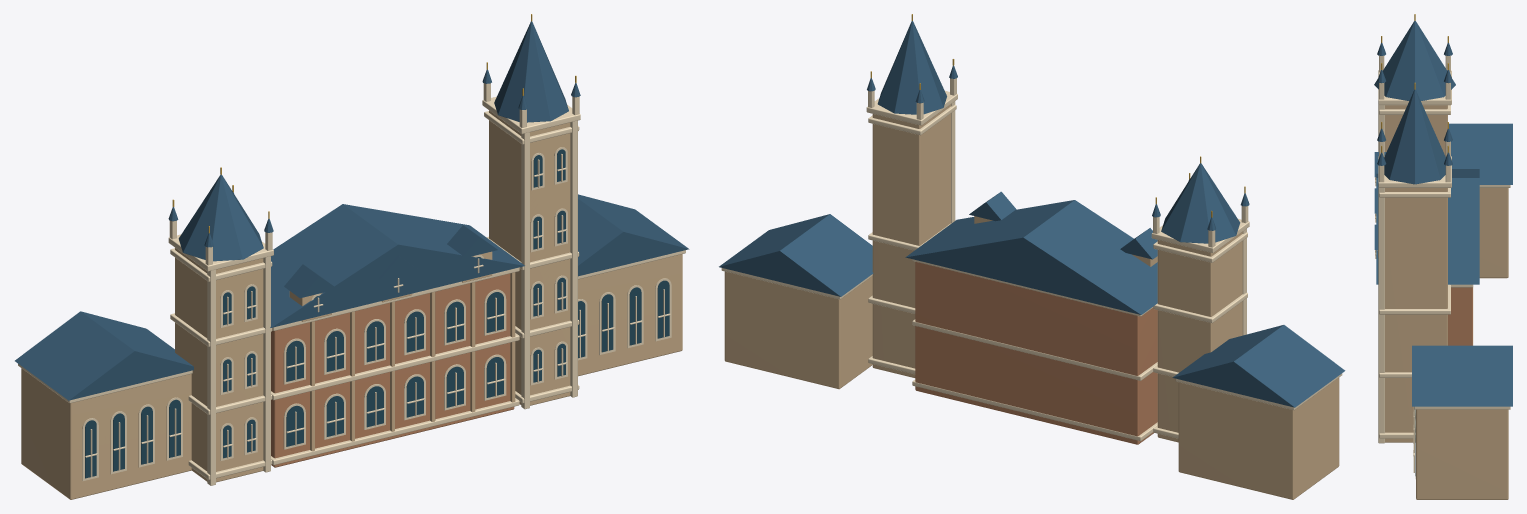
The model's file is AcademicBackdrop.fbx.
3 views of the same model, side by side, from view 1: azimuth 30°, elevation 25°; view 2: azimuth 150°, elevation 25°; view 3: azimuth 270°, elevation 25° (orthographic). The views are drawn at different scales.
Parts seen in each view (by area): view 1: AcademicBackdrop.001; view 2: AcademicBackdrop.001; view 3: AcademicBackdrop.001.
Boxes of the visible parts, <box> form: AcademicBackdrop.001: <box>15,14,689,499</box>; AcademicBackdrop.001: <box>719,14,1345,499</box>; AcademicBackdrop.001: <box>1374,14,1512,499</box>.
Bounding box in the file's own units: 31 × 17.87 × 6.46.
